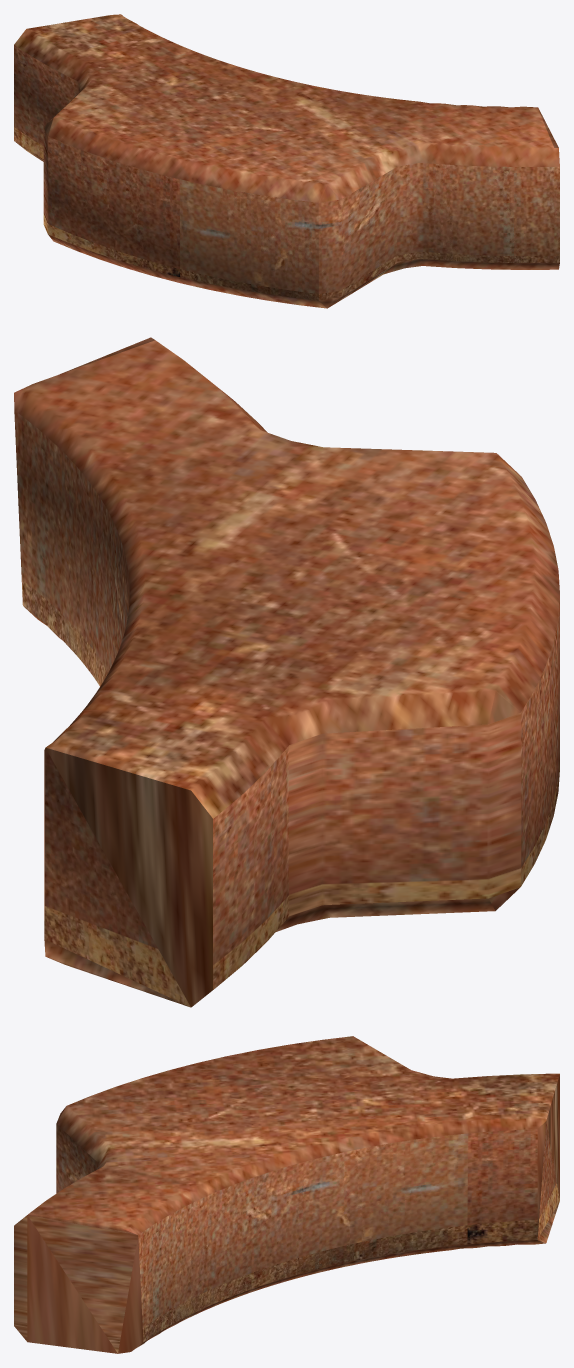
Rendered from 割れた歯車5Ａ 破片3.fbx.
3 views of the same model, one above another, from view 1: azimuth 30°, elevation 25°; view 2: azimuth 150°, elevation 25°; view 3: azimuth 270°, elevation 25° (orthographic). The views are drawn at different scales.
Visible parts, largest first — view 1: obj2; view 2: obj2; view 3: obj2.
Boxes of the visible parts, box(x1,y1,x2,y2) form: obj2: box(14, 14, 559, 308); obj2: box(14, 337, 559, 1007); obj2: box(14, 1036, 559, 1353).
Bounding box in the file's own units: 72.31 × 22.02 × 84.52.
1 material, 1 textured.
